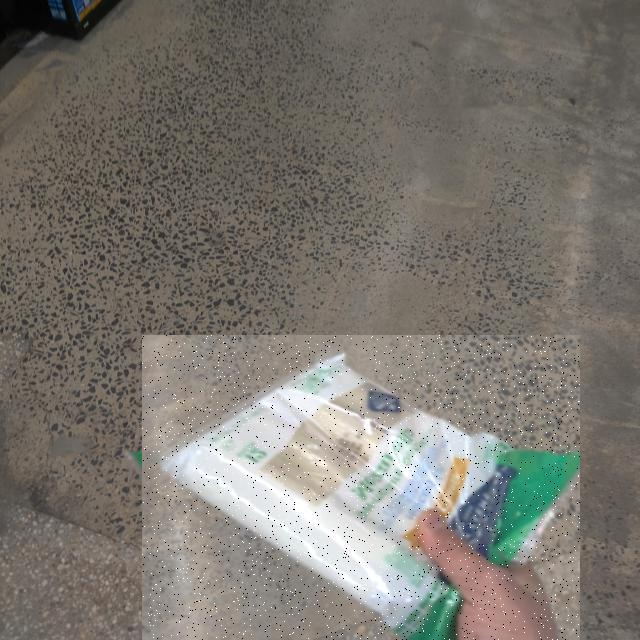Cheese: (142, 335, 580, 640)
